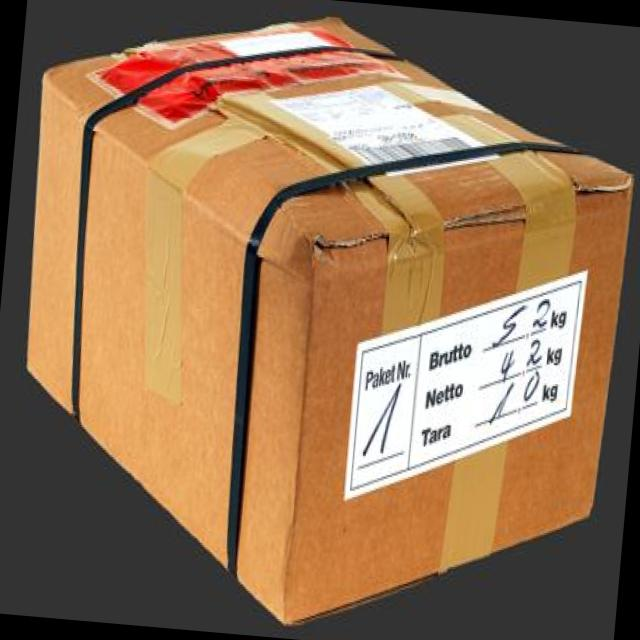box: (25, 14, 635, 628)
